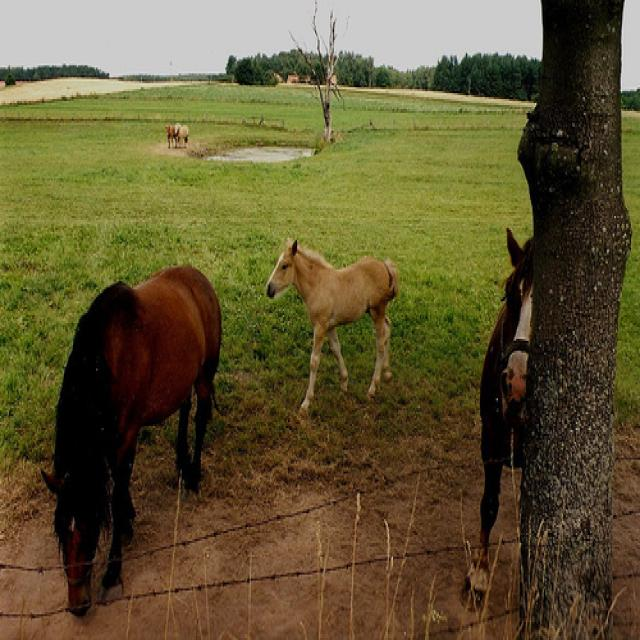horse: (41, 263, 224, 619), (459, 227, 536, 611), (265, 237, 399, 421)
